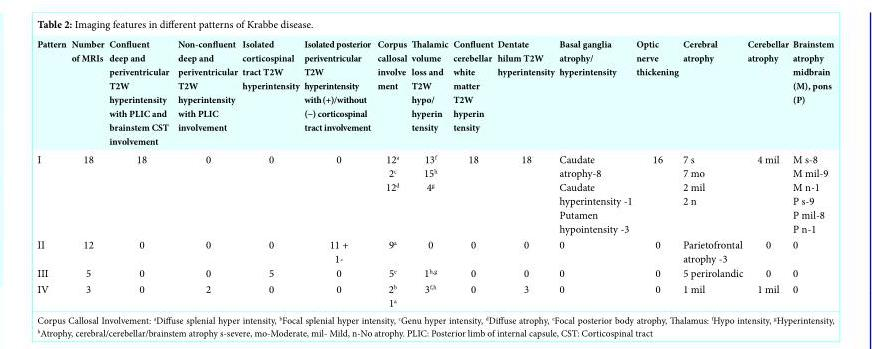table: (37, 36, 834, 309)
table column: (557, 36, 634, 309), (302, 36, 374, 309), (173, 36, 240, 309), (107, 36, 173, 309), (681, 36, 745, 309), (240, 36, 302, 309), (495, 36, 557, 309), (634, 36, 681, 309), (745, 36, 791, 309), (450, 36, 495, 309), (791, 36, 834, 309), (409, 36, 450, 309), (69, 36, 107, 309), (374, 36, 409, 309), (37, 36, 69, 309)
table column header: (37, 36, 834, 149)
table row: (37, 36, 834, 149), (37, 149, 834, 236), (37, 236, 834, 265), (37, 280, 834, 309), (37, 265, 834, 280)
